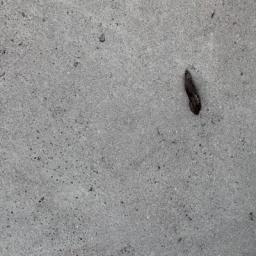FOD: (184, 70, 208, 117)
